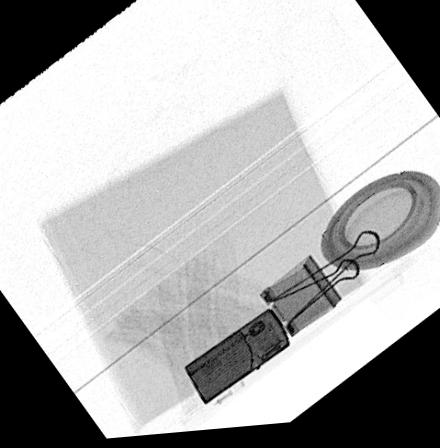Lighter: (183, 312, 289, 407)
